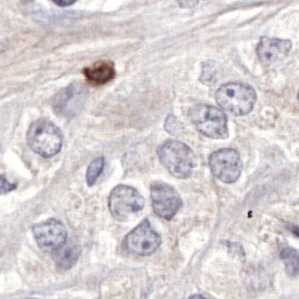Lymphocyte: (83, 60, 117, 85)
